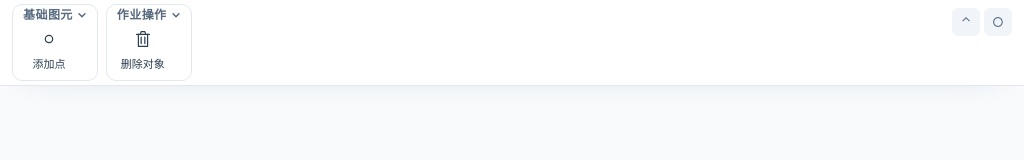
Scenario: ribbon › names the group toggle distinctly from its visible label
Expected: the text "基础图元" is shown, [23,9,73,21]
Click the button with aria-label "收起基础图元": (55, 15) [19,7,91,23]
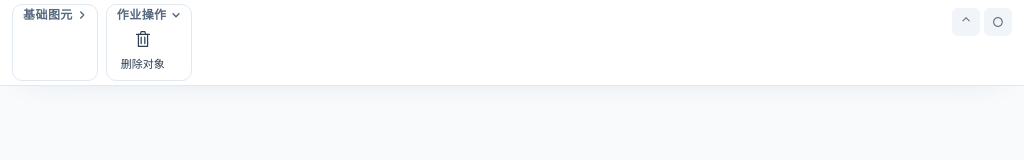
Now the button with aria-label "展开基础图元" is shown, box [19,7,91,23]
